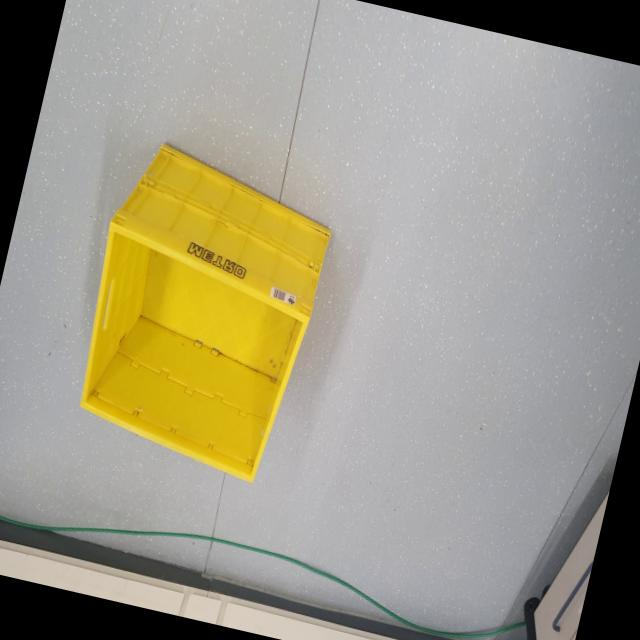box: (48, 124, 350, 496)
